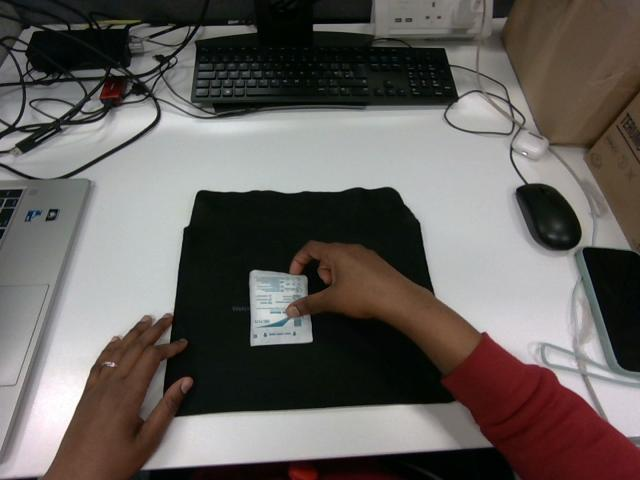gauze: (249, 270, 312, 346)
